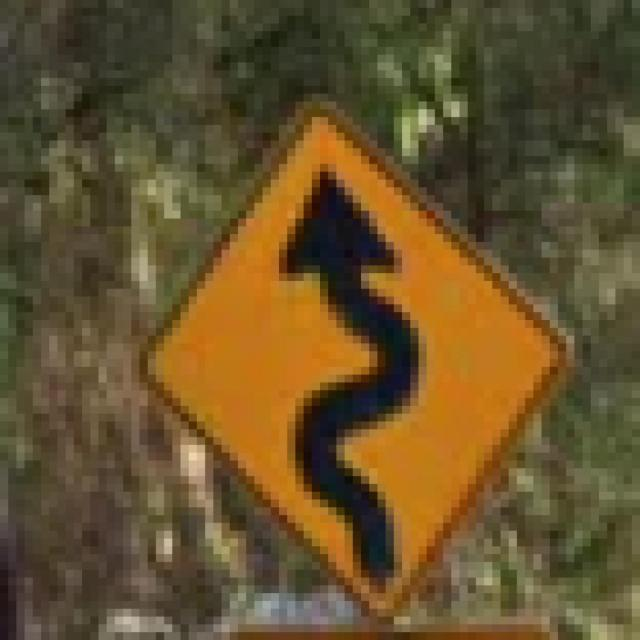Banyak Tikungan Pertama Kiri: (107, 78, 574, 632)
